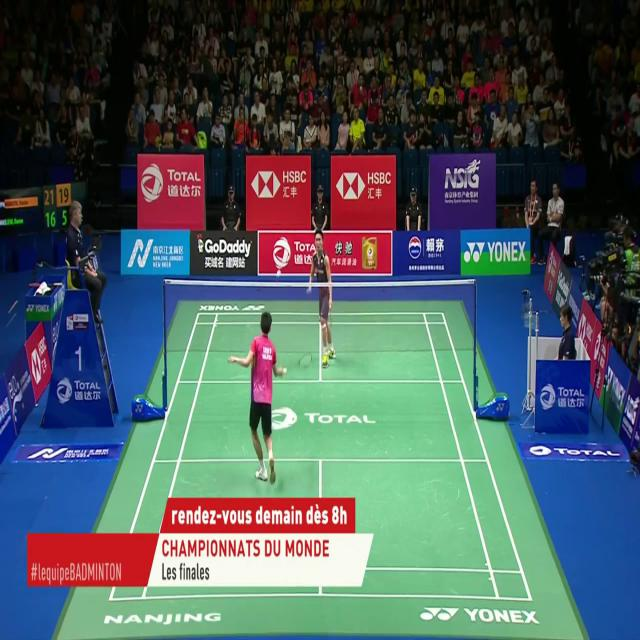Shuttlecock: (276, 266, 283, 278)
